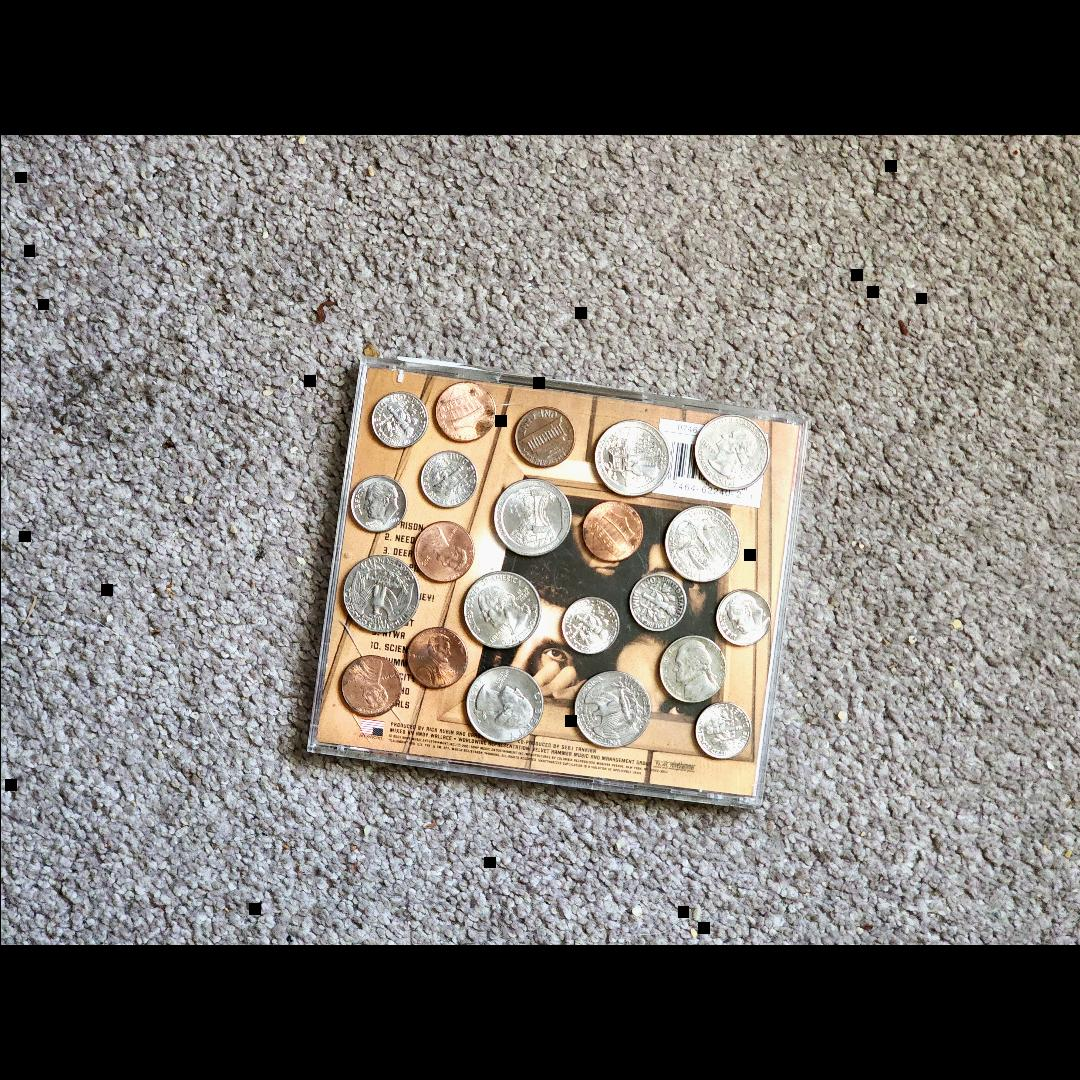Dime: (625, 572, 687, 632), (692, 704, 752, 762), (559, 596, 619, 654), (417, 450, 477, 508), (368, 391, 426, 450), (712, 590, 770, 646), (349, 476, 405, 530)
Nickel: (654, 638, 728, 704)
Penny: (338, 654, 403, 718), (509, 407, 576, 469), (579, 502, 645, 562), (412, 521, 472, 583), (435, 382, 493, 444), (406, 631, 466, 689)
Quarter: (592, 419, 670, 498), (662, 506, 742, 582), (338, 558, 416, 634), (570, 672, 647, 748), (494, 479, 570, 555), (463, 574, 539, 648), (692, 417, 766, 492), (468, 668, 543, 741)
